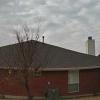Chimney: (78, 30, 100, 65)
